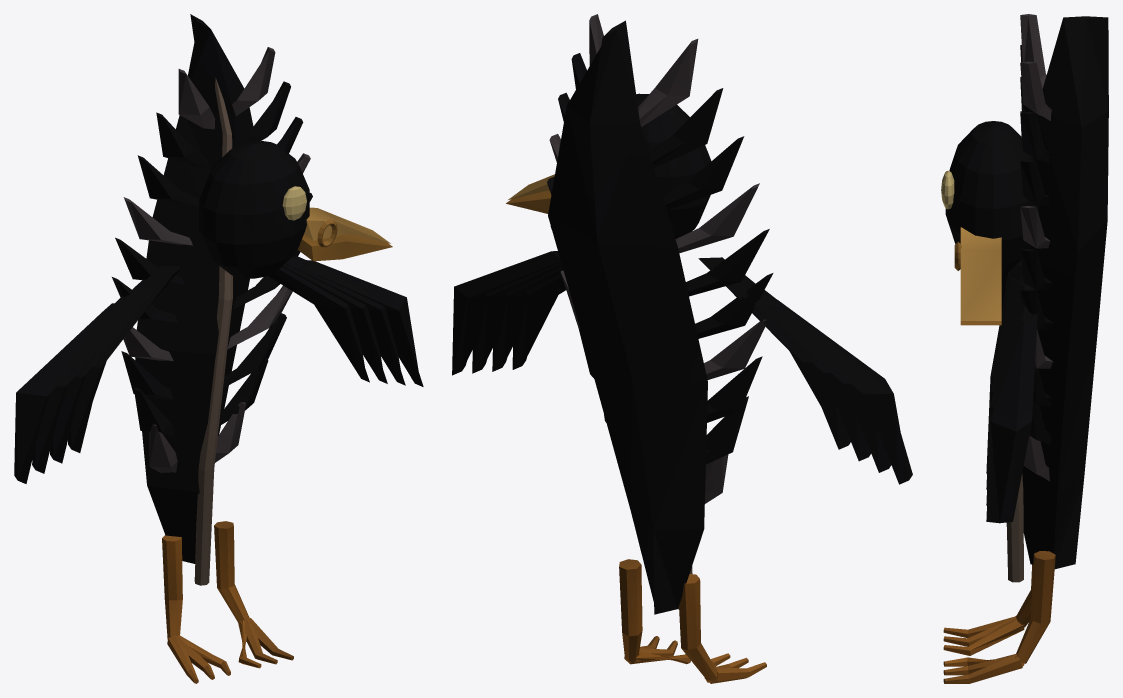
The model's file is raven_quill.fbx.
3 renders of one model, left to right at view 1: azimuth 30°, elevation 25°; view 2: azimuth 150°, elevation 25°; view 3: azimuth 270°, elevation 25°, orthographic. The views are drawn at different scales.
Parts seen in each view (by area): view 1: raven_quill; view 2: raven_quill; view 3: raven_quill.
Part boxes in pixels (x1,y1,x2,y2): raven_quill: (14,14,423,683); raven_quill: (452,14,912,683); raven_quill: (941,14,1108,683).
Bounding box in the file's own units: 2.47 × 3.52 × 0.8183.
